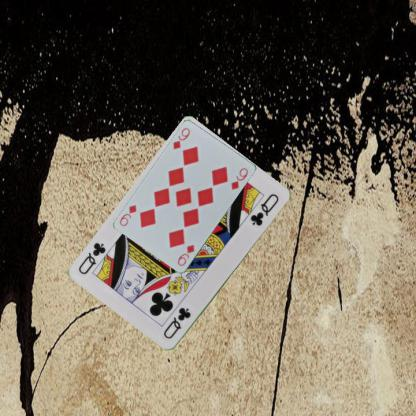9d: (170, 125, 192, 151), (175, 242, 196, 268)
Qc: (160, 305, 192, 341)
